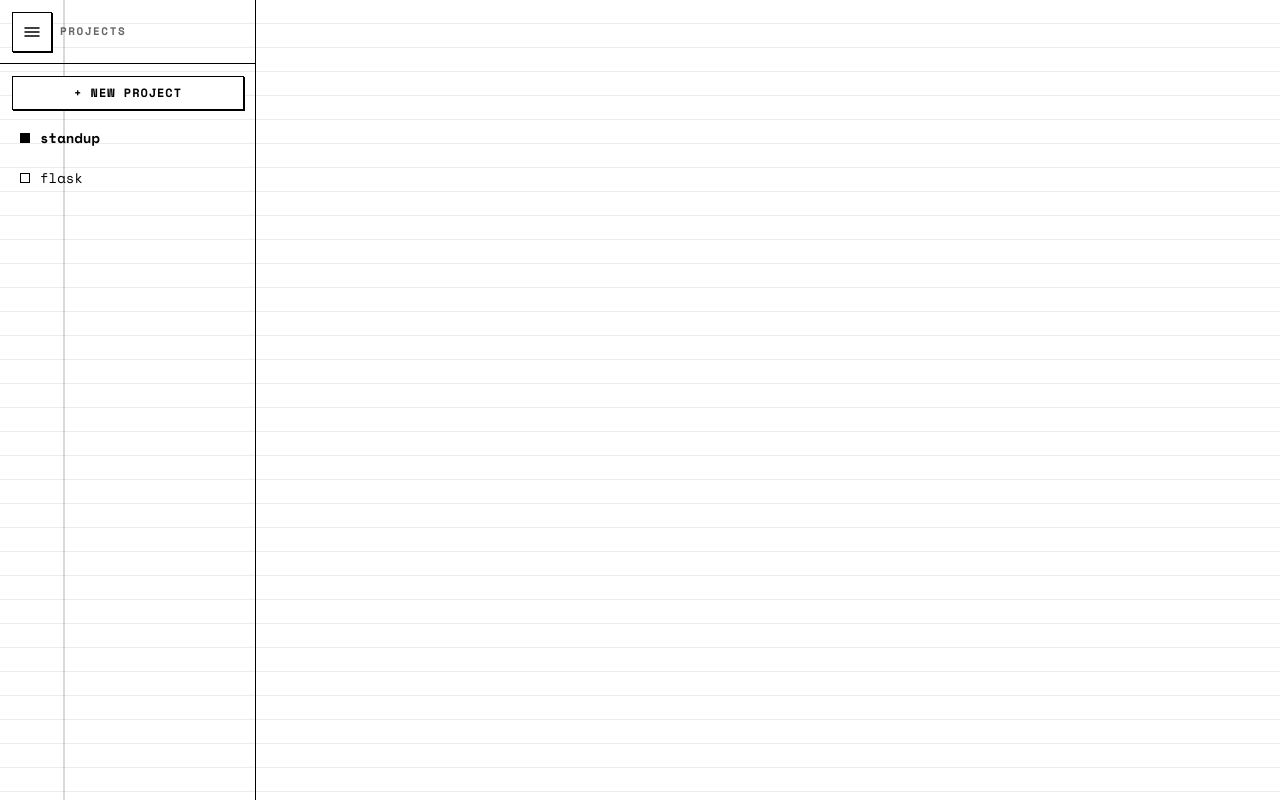
Test: escape abandons naming
Click the button "+ New project" at [128, 93], box left=12, top=76, right=244, bottom=110
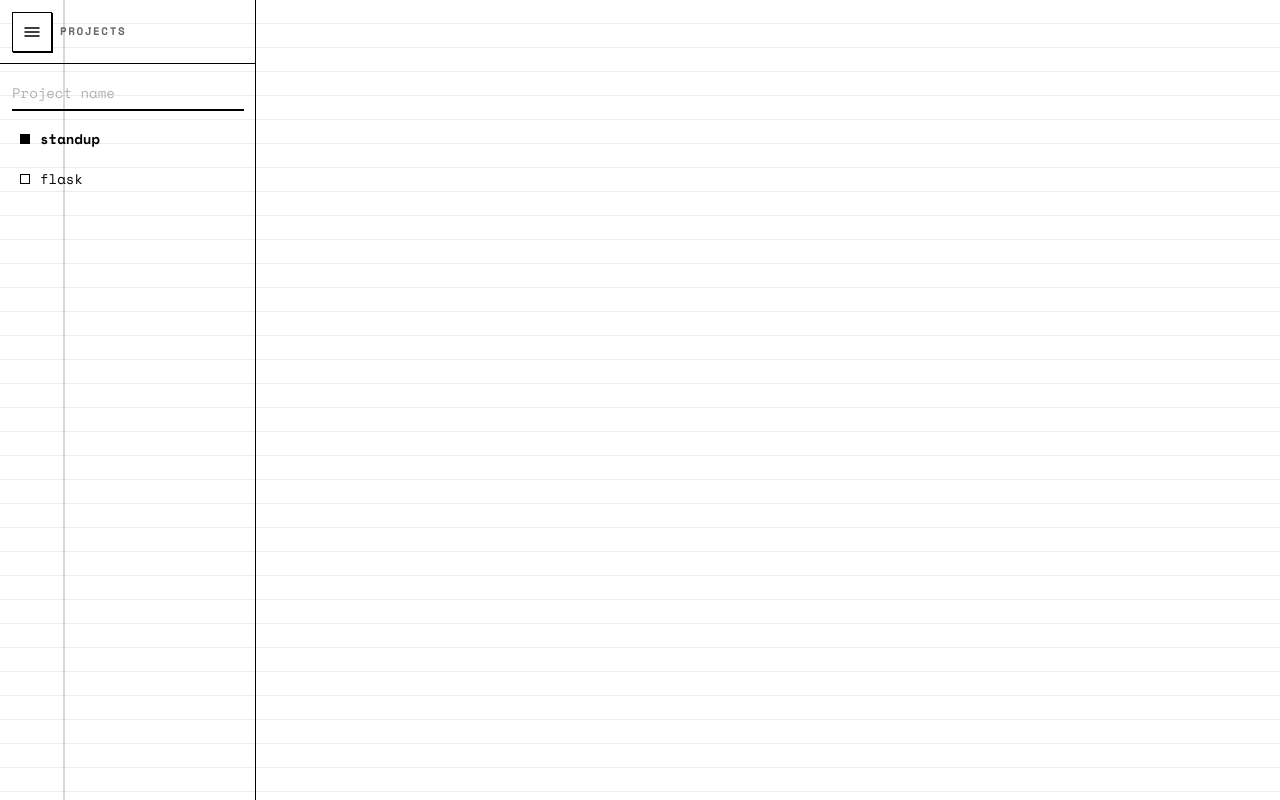
Press Escape in the field named "Name the new project", box left=12, top=76, right=244, bottom=111
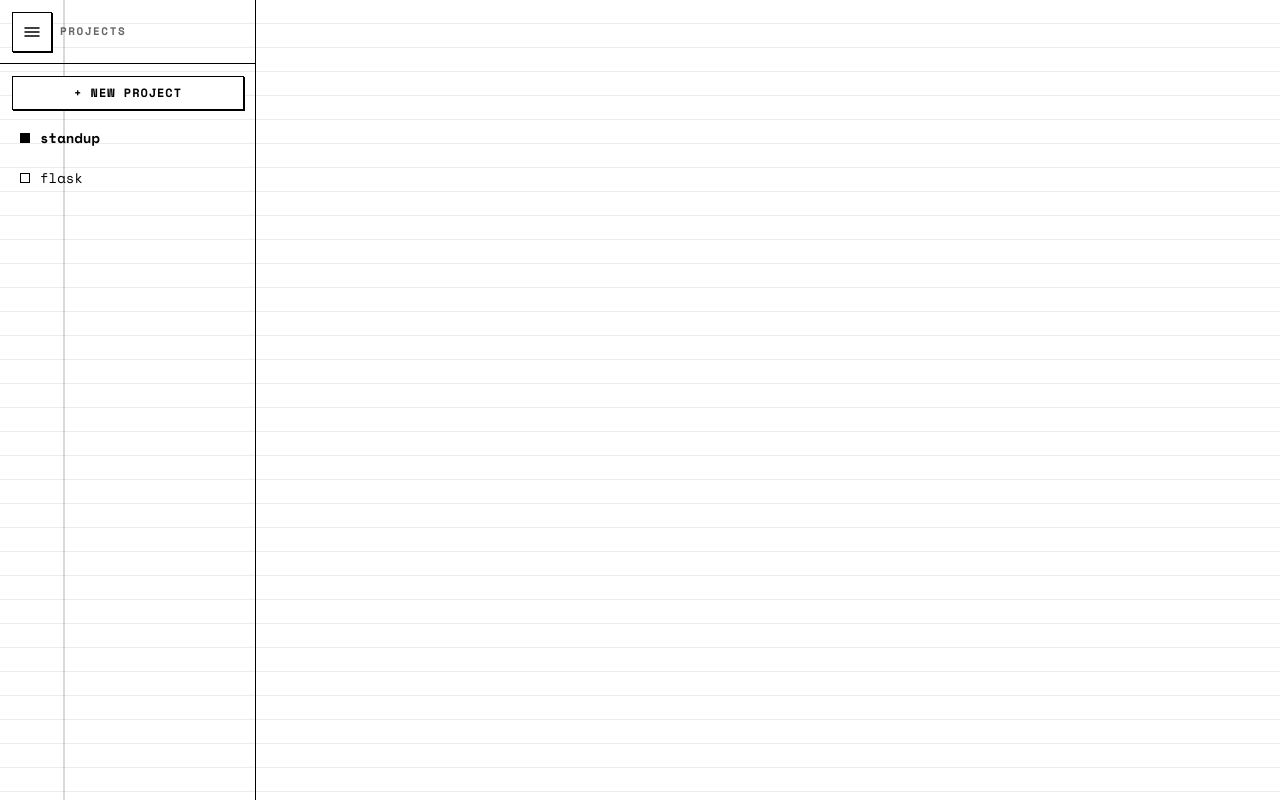
Check: the button "+ New project" is shown, box left=12, top=76, right=244, bottom=110
